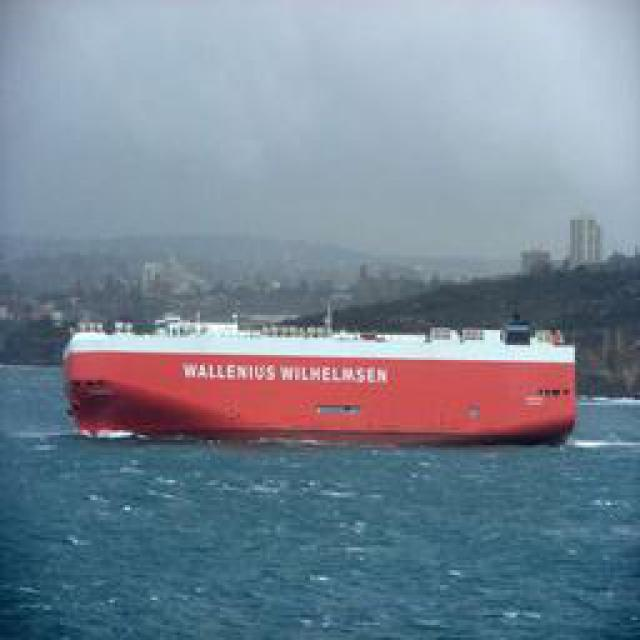Ship: (67, 326, 587, 444)
